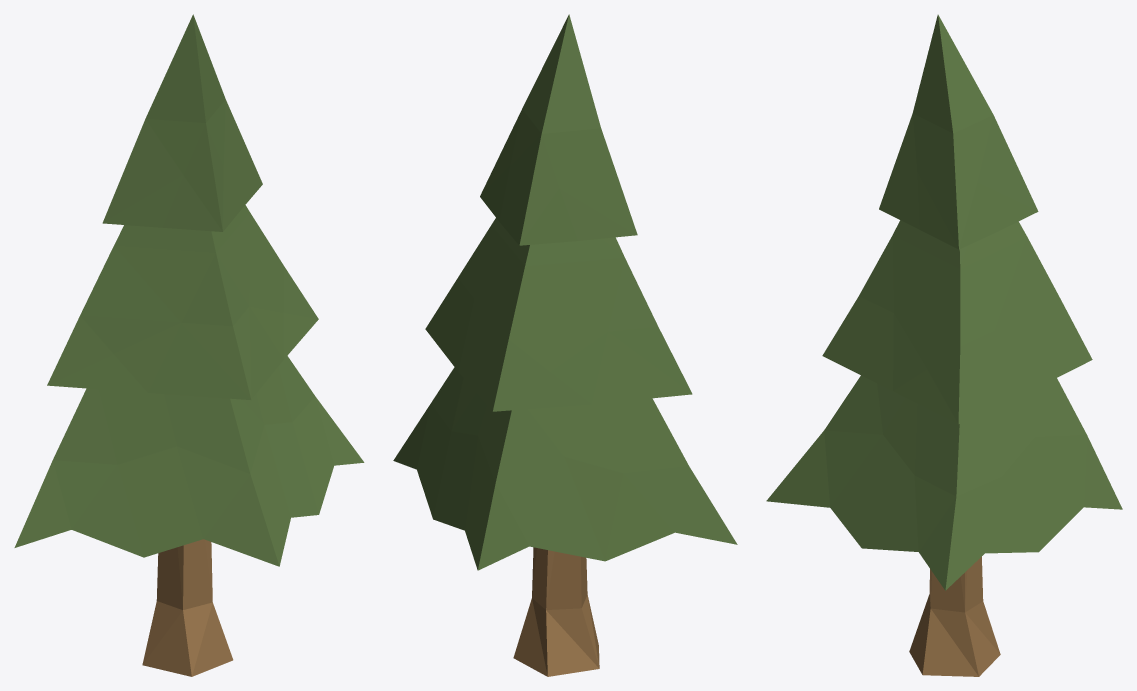
The model's file is sapin.fbx.
3 renders of one model, left to right at view 1: azimuth 30°, elevation 25°; view 2: azimuth 150°, elevation 25°; view 3: azimuth 270°, elevation 25°, orthographic.
Parts seen in each view (by area): view 1: tree_05; view 2: tree_05; view 3: tree_05.
Part boxes in pixels (x1=…): tree_05: x1=14, y1=14, x2=364, y2=676; tree_05: x1=393, y1=14, x2=737, y2=676; tree_05: x1=766, y1=14, x2=1122, y2=676.
Bounding box in the file's own units: 314 × 555 × 278.
